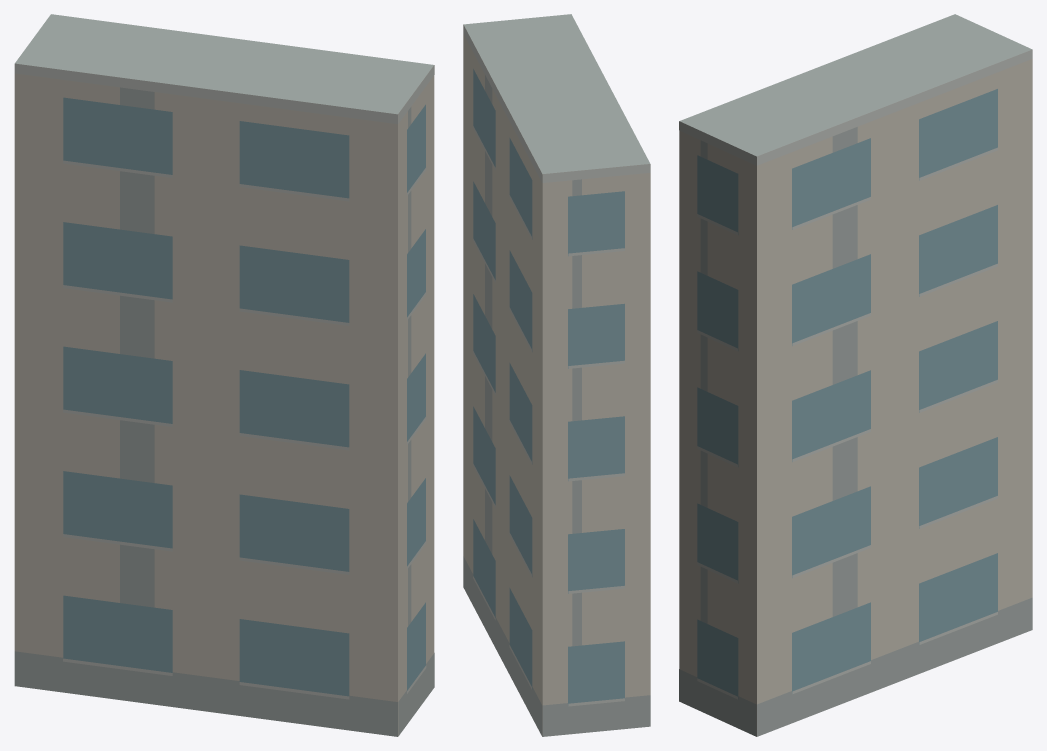
Rendered from survey-upis-32798650.glb.
The picture shows the model from 3 angles, left to right: view 1: azimuth 30°, elevation 25°; view 2: azimuth 150°, elevation 25°; view 3: azimuth 270°, elevation 25°; orthographic projection. The views are drawn at different scales.
Visible parts, largest first — view 1: survey-upis-32798650.tmp; view 2: survey-upis-32798650.tmp; view 3: survey-upis-32798650.tmp.
Boxes of the visible parts, x1,y1,x2,y2 form: survey-upis-32798650.tmp: (14, 14, 434, 736); survey-upis-32798650.tmp: (463, 14, 650, 736); survey-upis-32798650.tmp: (679, 14, 1032, 736).
Size of the model in its own units: 8.04 by 15.25 by 8.42.
